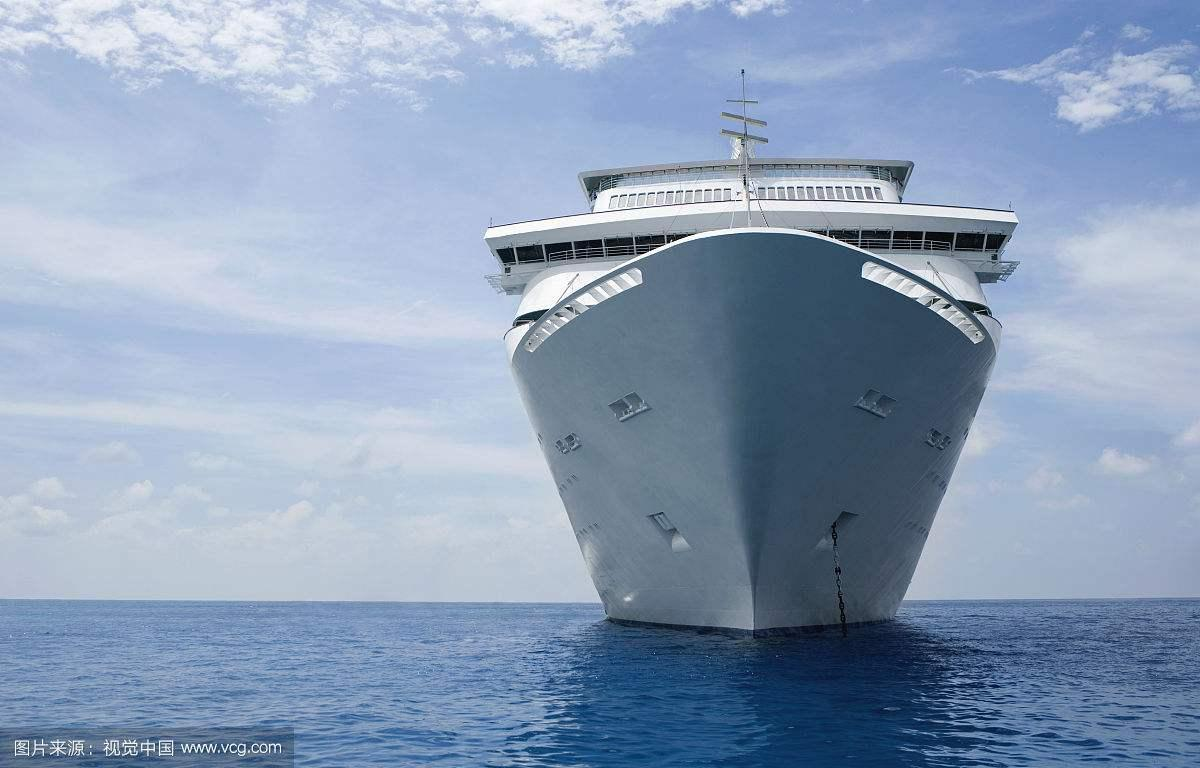youlun: (481, 78, 1008, 636)
